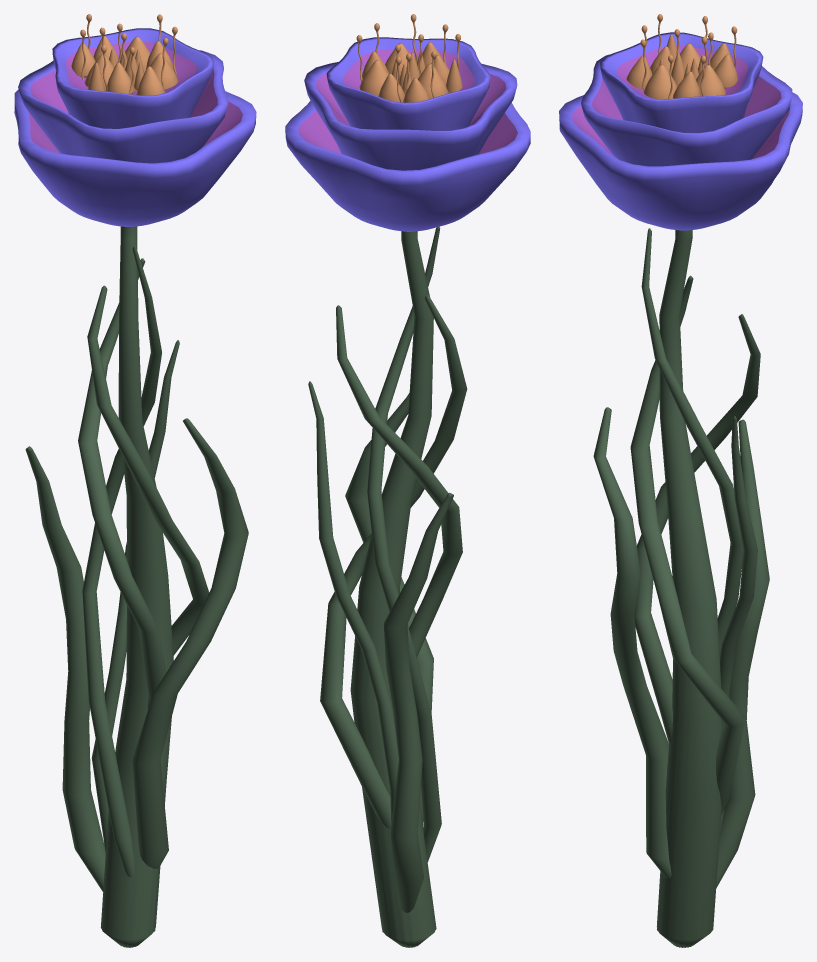
The model's file is flower2modelreworked.fbx.
3 renders of one model, left to right at view 1: azimuth 30°, elevation 25°; view 2: azimuth 150°, elevation 25°; view 3: azimuth 270°, elevation 25°, orthographic.
Visible parts, largest first — view 1: tentacles, head, stem, inside, insidemiddle, insideup, insidedown; view 2: tentacles, head, stem, inside, insidedown, insideup, insidemiddle; view 3: tentacles, head, stem, inside, insidemiddle, insideup, insidedown.
Boxes of the visible parts, left/top/right/bottom form: tentacles: left=25, top=245, right=248, bottom=891; head: left=14, top=28, right=256, bottom=226; stem: left=100, top=226, right=173, bottom=947; inside: left=71, top=14, right=178, bottom=95; insidemiddle: left=30, top=68, right=217, bottom=117; insideup: left=66, top=41, right=197, bottom=94; insidedown: left=28, top=101, right=242, bottom=153; tentacles: left=308, top=226, right=467, bottom=912; head: left=285, top=37, right=530, bottom=231; stem: left=350, top=231, right=436, bottom=947; inside: left=356, top=14, right=462, bottom=102; insidedown: left=298, top=110, right=517, bottom=154; insideup: left=342, top=49, right=474, bottom=93; insidemiddle: left=315, top=73, right=506, bottom=126; tentacles: left=593, top=228, right=769, bottom=887; head: left=559, top=32, right=802, bottom=230; stem: left=656, top=230, right=722, bottom=947; inside: left=626, top=14, right=737, bottom=99; insidemiddle: left=591, top=76, right=781, bottom=119; insideup: left=616, top=45, right=748, bottom=98; insidedown: left=572, top=105, right=790, bottom=158.
Size of the model in its own units: 7.65 by 31.6 by 7.65.
